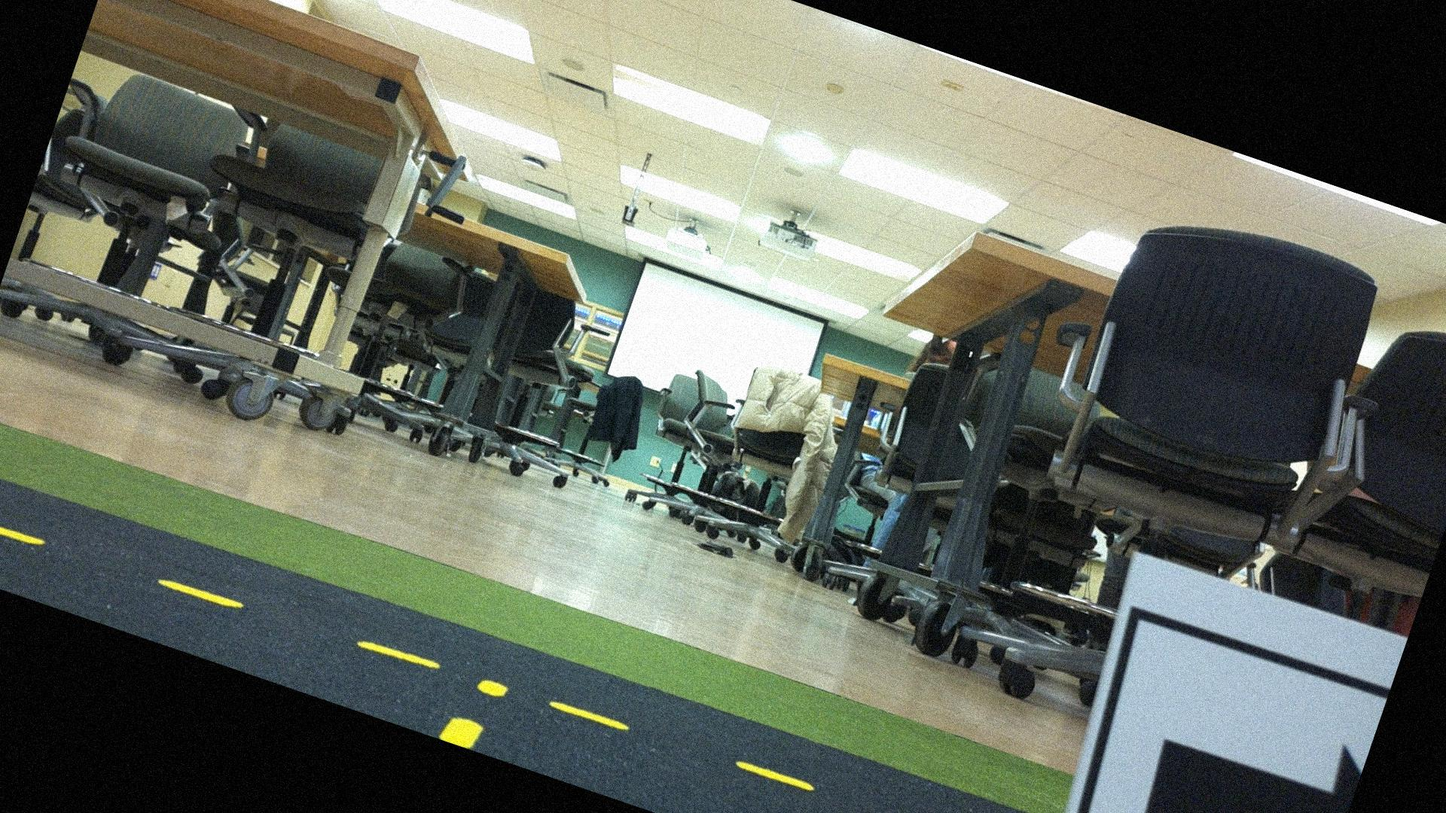yellowline: (0, 487, 997, 812)
